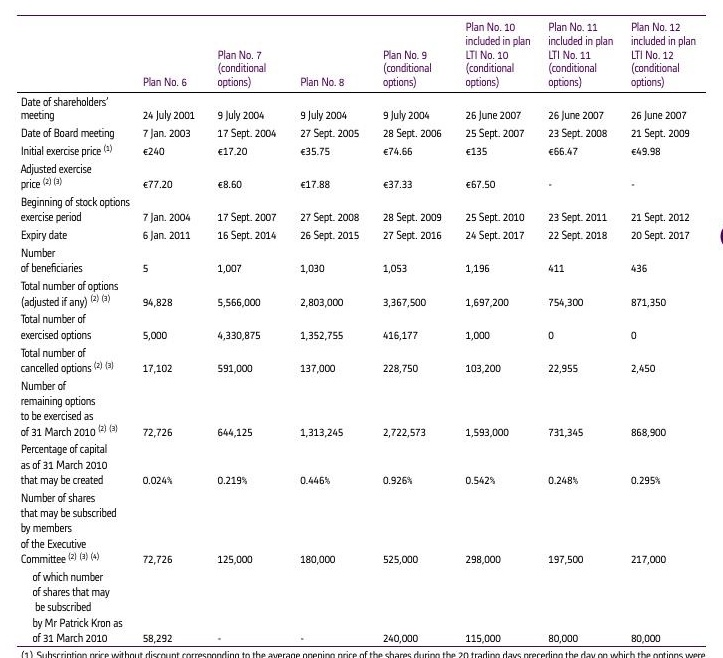table: (0, 0, 723, 658)
